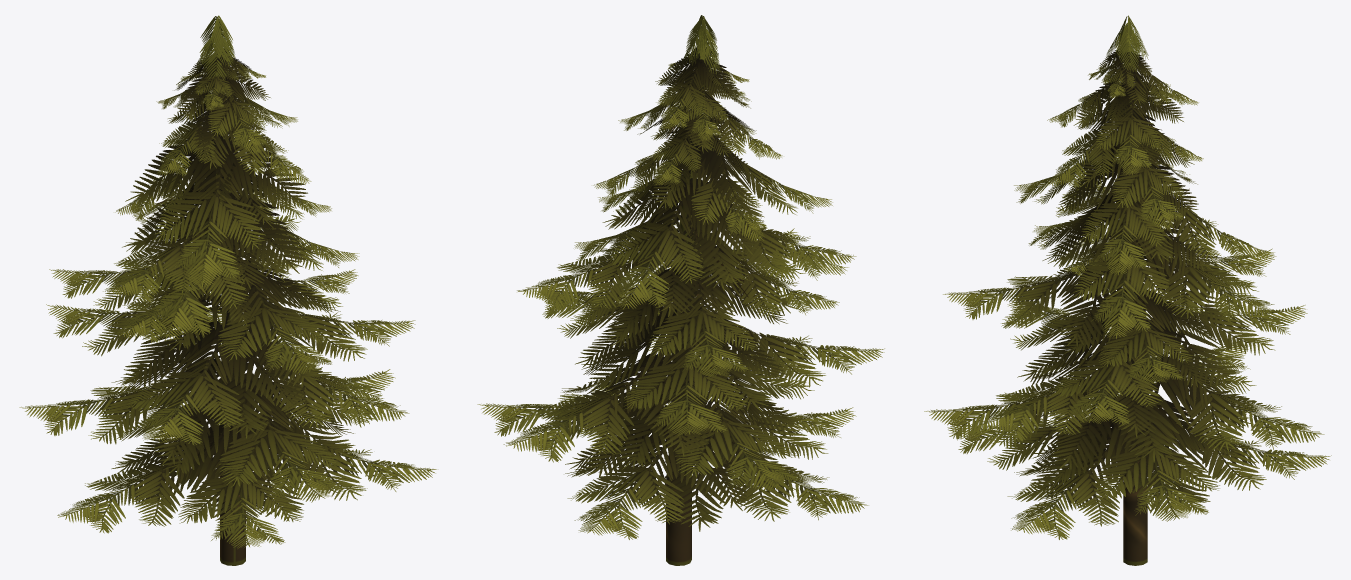
File: pino.fbx
3 views of the same model, side by side, from view 1: azimuth 30°, elevation 25°; view 2: azimuth 150°, elevation 25°; view 3: azimuth 270°, elevation 25° (orthographic). The views are drawn at different scales.
Visible parts, largest first — view 1: Leaves/001, Trank.001; view 2: Leaves/001, Trank.001; view 3: Leaves/001, Trank.001.
Boxes of the visible parts, x1=… form: Leaves/001: x1=19, y1=15, x2=436, y2=548; Trank.001: x1=214, y1=29, x2=245, y2=565; Leaves/001: x1=477, y1=15, x2=884, y2=539; Trank.001: x1=666, y1=28, x2=705, y2=565; Leaves/001: x1=924, y1=15, x2=1331, y2=539; Trank.001: x1=1121, y1=28, x2=1147, y2=565.
Bounding box in the file's own units: 549 × 779 × 549.
2 materials, 2 textured.
